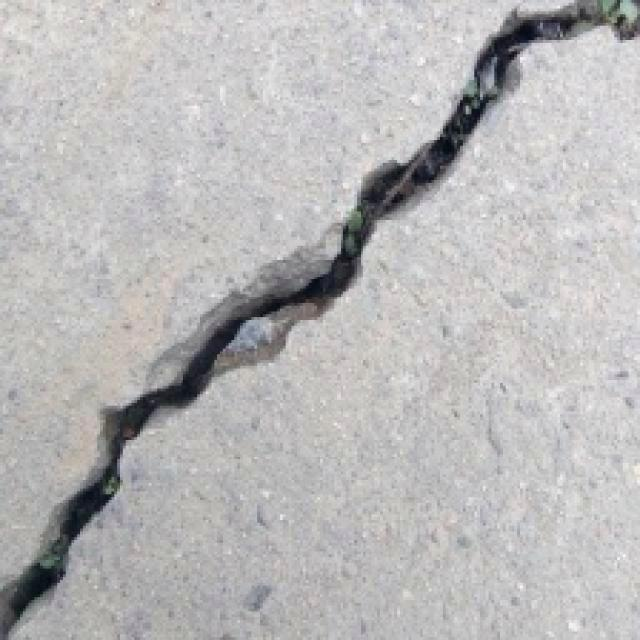SurfaceCrack: (6, 0, 628, 638)
